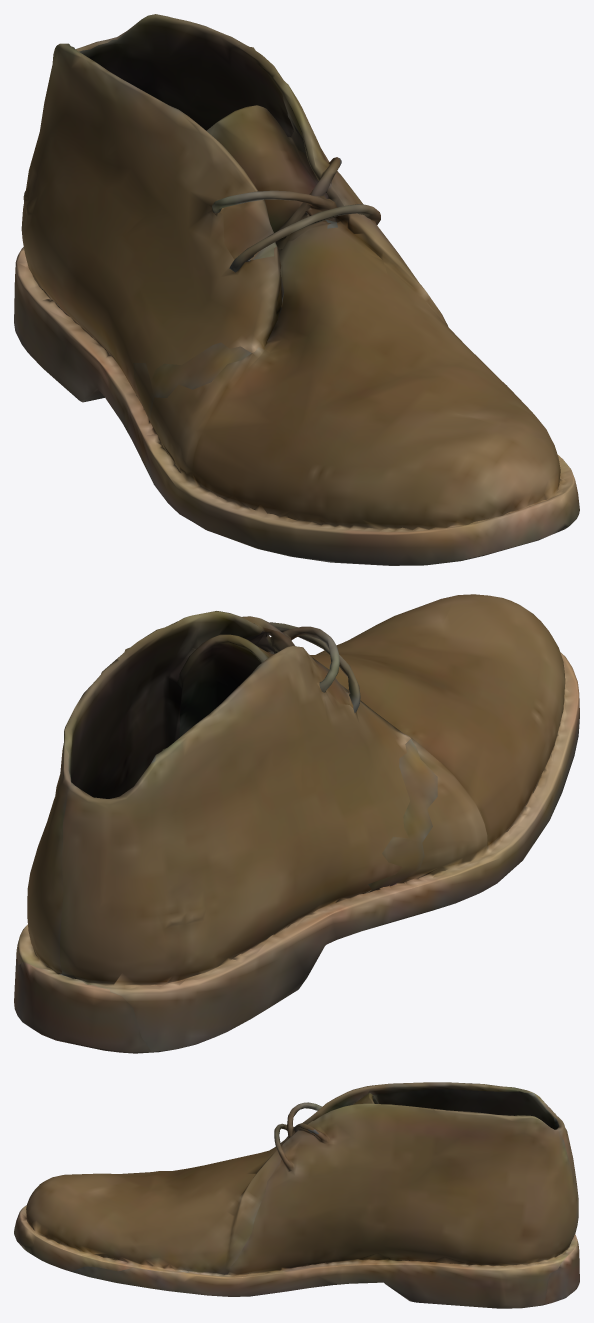
File: Timberland_Mens_Earthkeepers_Stormbuck_Chukka-high.glb
3 renders of one model, top to bottom at view 1: azimuth 30°, elevation 25°; view 2: azimuth 150°, elevation 25°; view 3: azimuth 270°, elevation 25°, orthographic. The views are drawn at different scales.
Visible parts, largest first — view 1: Timberland_Mens_Earthkeepers_Stormbuck_Chukka; view 2: Timberland_Mens_Earthkeepers_Stormbuck_Chukka; view 3: Timberland_Mens_Earthkeepers_Stormbuck_Chukka.
Boxes of the visible parts, bbox=[...] form: Timberland_Mens_Earthkeepers_Stormbuck_Chukka: bbox=[14, 14, 579, 565]; Timberland_Mens_Earthkeepers_Stormbuck_Chukka: bbox=[14, 594, 579, 1053]; Timberland_Mens_Earthkeepers_Stormbuck_Chukka: bbox=[14, 1082, 579, 1308].
Bounding box in the file's own units: 0.1126 × 0.1158 × 0.3066.
1 material, 1 textured.
